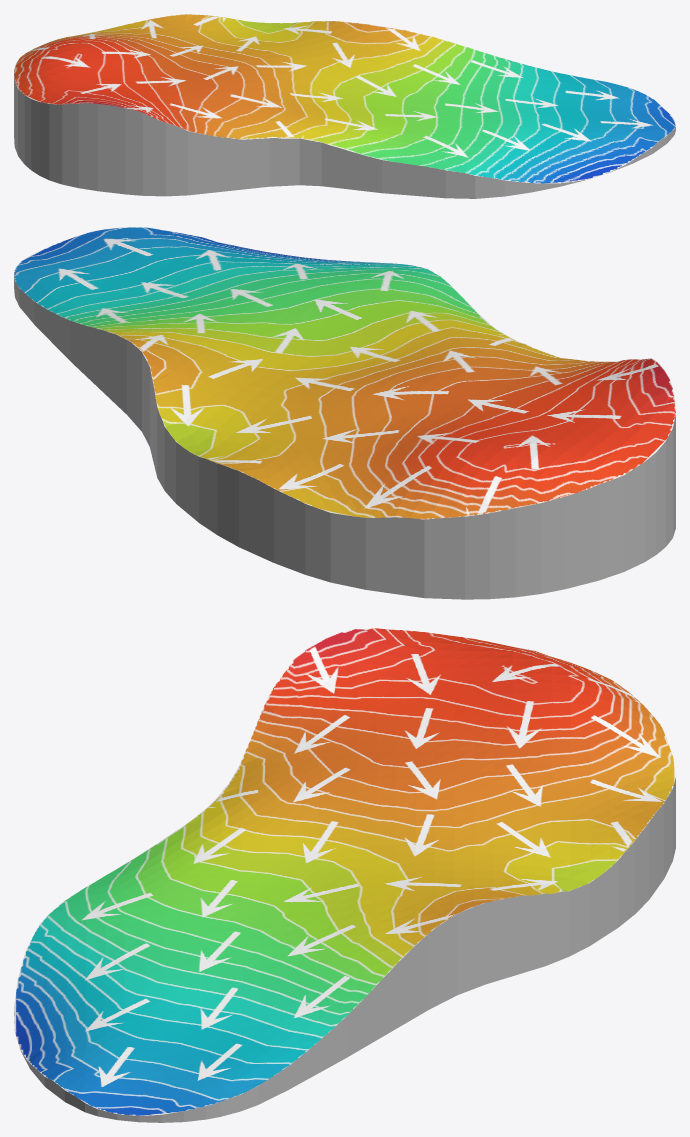
The picture shows the model from 3 angles, top to bottom: view 1: azimuth 30°, elevation 25°; view 2: azimuth 150°, elevation 25°; view 3: azimuth 270°, elevation 25°; orthographic projection. The views are drawn at different scales.
Size of the model in its own units: 4.43 by 0.6935 by 3.24.
Materials: 2 (1 with a texture image).
